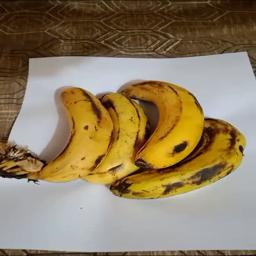Banana Semifresh: (39, 84, 245, 195), (117, 70, 206, 177), (38, 86, 109, 183), (97, 85, 145, 183)
